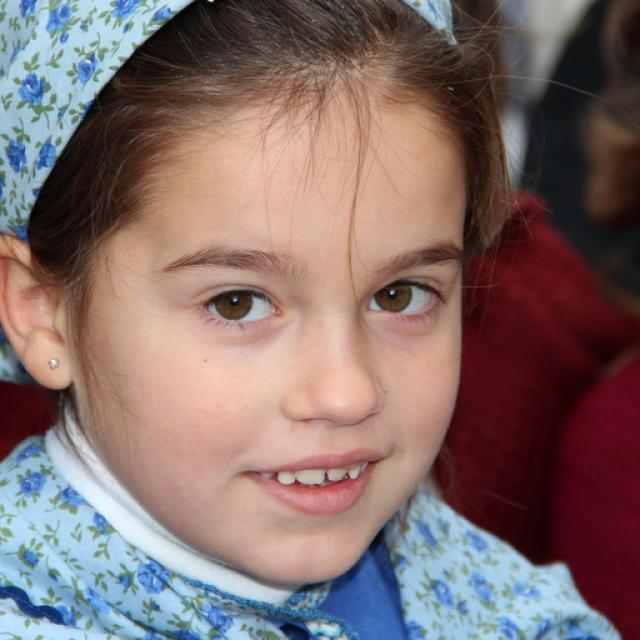happy: (94, 85, 464, 584)
